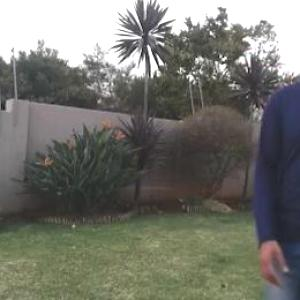follow: (249, 25, 299, 299)
